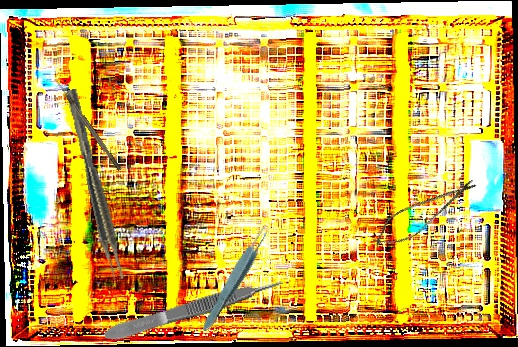Hook Surgical: (55, 79, 122, 172)
Micro Scissor: (367, 169, 482, 256)
Tissue Forceps: (101, 274, 287, 345), (65, 87, 127, 282), (197, 221, 276, 335)
